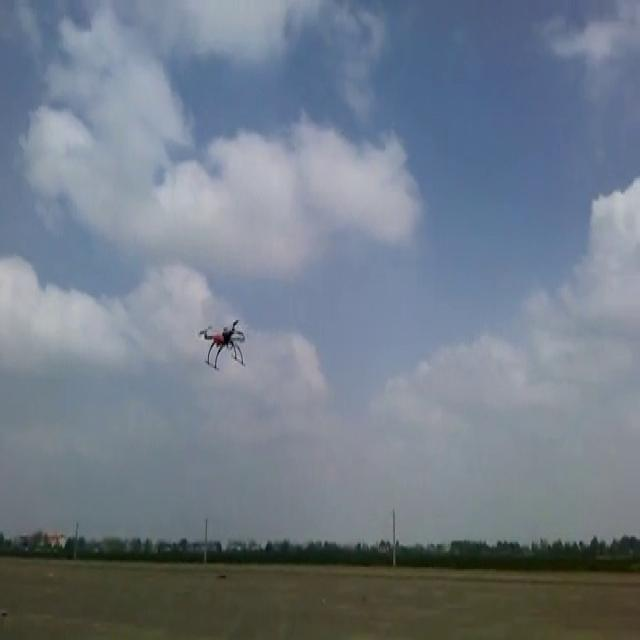drone: (199, 314, 244, 370)
